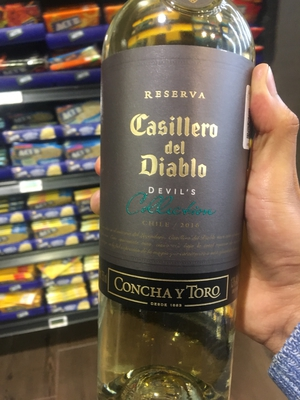casillero del diablo devils collection verde: (78, 2, 269, 391)
